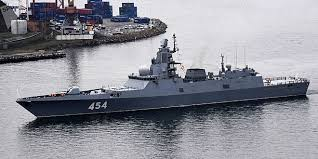tau_muctieu: (17, 48, 313, 114)
